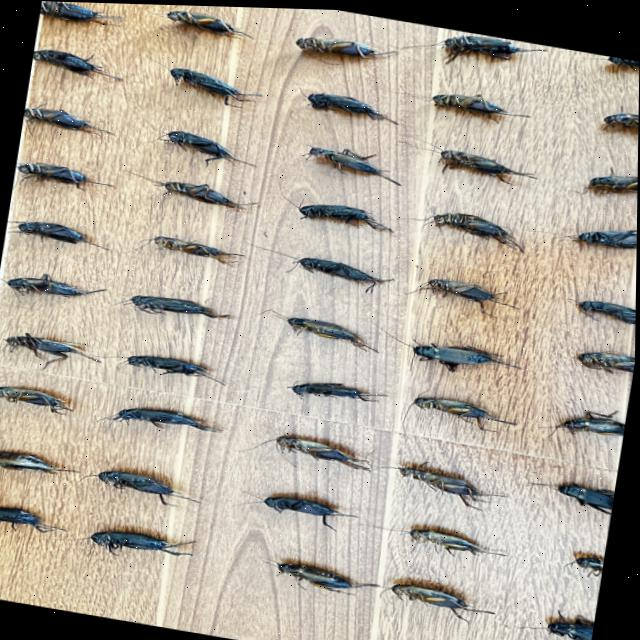egg: (400, 464, 508, 503), (419, 276, 519, 312), (392, 581, 496, 615), (413, 394, 517, 428), (434, 209, 524, 248), (309, 144, 401, 182), (99, 470, 201, 504), (159, 129, 255, 163), (297, 255, 393, 289), (441, 147, 537, 181), (278, 433, 371, 468), (171, 66, 252, 104), (288, 315, 378, 348), (108, 406, 224, 430), (279, 561, 378, 589), (414, 342, 520, 368), (157, 180, 259, 207), (128, 354, 225, 382), (6, 332, 101, 360), (300, 202, 394, 230), (24, 106, 115, 134), (411, 526, 508, 552), (92, 530, 197, 554), (441, 32, 530, 60), (155, 235, 246, 262), (165, 9, 254, 36), (18, 162, 115, 186), (431, 91, 530, 114), (132, 294, 231, 316), (308, 91, 391, 117), (295, 35, 398, 55), (5, 273, 97, 295), (0, 386, 74, 413), (33, 49, 107, 76), (265, 494, 359, 514), (14, 221, 98, 243), (292, 380, 387, 399), (558, 479, 616, 510), (557, 407, 627, 432), (0, 450, 81, 471), (40, 1, 125, 20), (548, 609, 596, 640), (0, 506, 57, 531), (579, 296, 637, 320), (579, 348, 636, 368), (579, 225, 638, 244), (587, 171, 638, 190), (602, 108, 639, 128), (308, 89, 347, 106), (576, 552, 606, 571), (606, 52, 640, 68), (615, 109, 627, 114), (195, 135, 205, 140), (108, 74, 120, 78), (236, 157, 247, 161), (568, 623, 575, 629)
